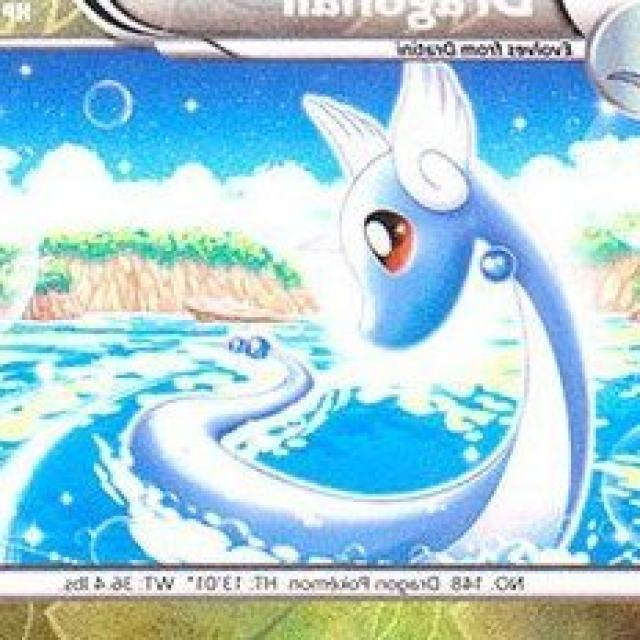Dragonair: (307, 72, 590, 565)
